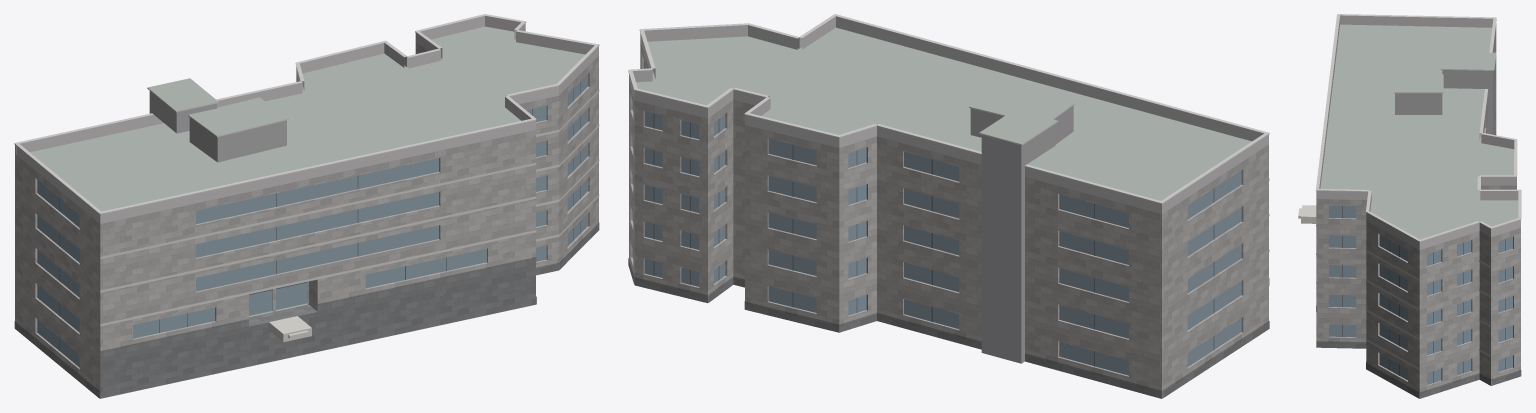
The picture shows the model from 3 angles, left to right: view 1: azimuth 30°, elevation 25°; view 2: azimuth 150°, elevation 25°; view 3: azimuth 270°, elevation 25°; orthographic projection. The views are drawn at different scales.
Visible parts, largest first — view 1: b53__wall, b53__roof, b53__base, b53__glass, b53__parapet, b53__trim, b53__wall2, b53__entranceStair; view 2: b53__wall, b53__roof, b53__glass, b53__parapet, b53__wall2, b53__base, b53__trim, b53__frame; view 3: b53__roof, b53__wall, b53__glass, b53__parapet, b53__trim, b53__wall2, b53__base, b53__frame, b53__entranceStair.
Boxes of the visible parts, x1,y1,x2,y2 form: b53__wall: (15,42,598,398); b53__roof: (30,26,585,398); b53__base: (14,222,599,398); b53__glass: (37,74,587,367); b53__parapet: (15,16,598,223); b53__trim: (14,14,599,326); b53__wall2: (149,91,286,162); b53__entranceStair: (269,316,311,342); b53__wall: (629,41,1268,398); b53__roof: (636,27,1251,200); b53__glass: (632,61,1241,375); b53__parapet: (629,16,1268,214); b53__wall2: (970,105,1073,363); b53__base: (628,258,1269,398); b53__trim: (628,14,1269,251); b53__frame: (653,113,1214,366); b53__roof: (1320,24,1518,398); b53__wall: (1316,27,1520,398); b53__glass: (1329,205,1512,384); b53__parapet: (1316,15,1520,250); b53__trim: (1315,14,1521,369); b53__wall2: (1395,67,1494,134); b53__base: (1316,306,1521,398); b53__frame: (1342,206,1505,382); b53__entranceStair: (1298,205,1316,223).
Bounding box in the file's own units: 59.14 × 21.53 × 24.55.
10 materials, 2 textured.
